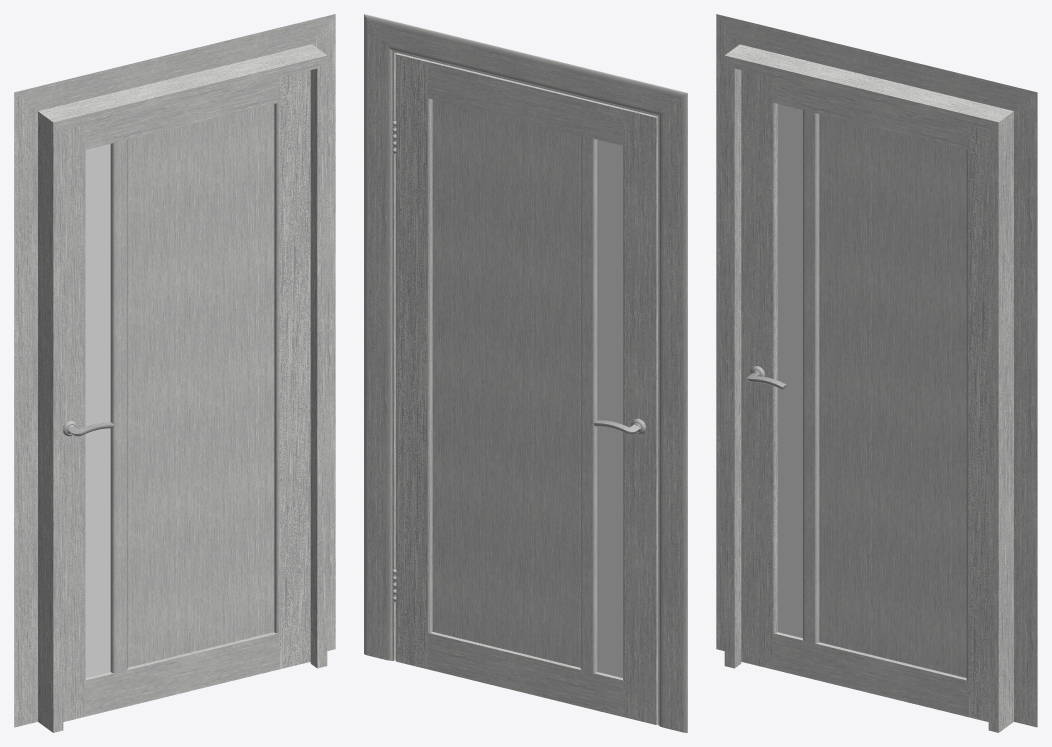
Rendered from 5_siteDraco.gltf.
The picture shows the model from 3 angles, left to right: view 1: azimuth 30°, elevation 25°; view 2: azimuth 150°, elevation 25°; view 3: azimuth 330°, elevation 25°; orthographic projection.
Parts seen in each view (by area): view 1: 412site; view 2: 412site; view 3: 412site.
Part boxes in pixels (bbox=[...]): 412site: bbox=[14, 14, 335, 732]; 412site: bbox=[364, 14, 687, 732]; 412site: bbox=[716, 14, 1037, 732].
Bounding box in the file's own units: 1.11 × 2.11 × 0.1635.
Materials: 3 (1 with a texture image).
